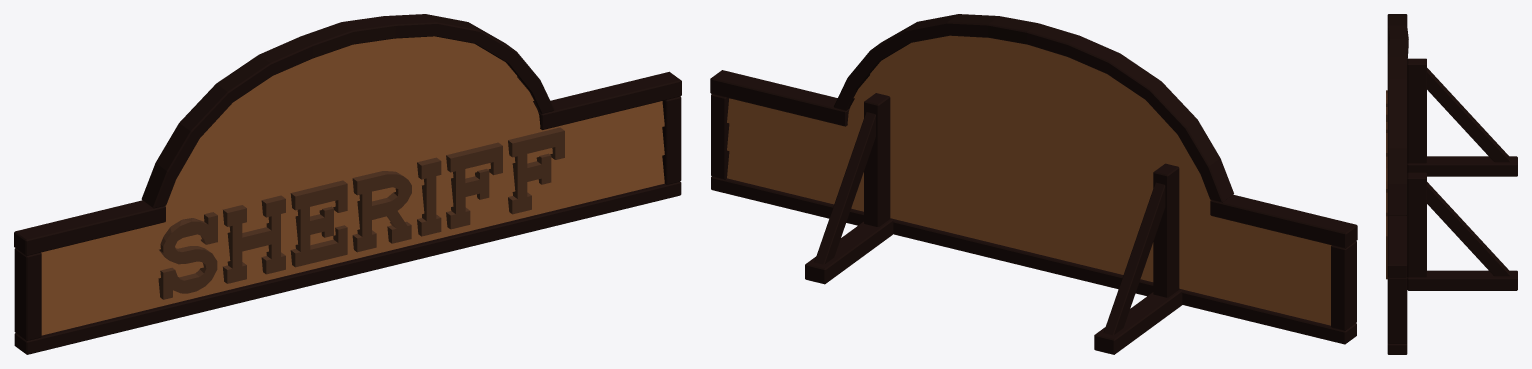
The model's file is ww_sheriff_sign_b.glb.
3 renders of one model, left to right at view 1: azimuth 30°, elevation 25°; view 2: azimuth 150°, elevation 25°; view 3: azimuth 270°, elevation 25°, orthographic. The views are drawn at different scales.
Parts seen in each view (by area): view 1: Sheriff_Sign_B; view 2: Sheriff_Sign_B; view 3: Sheriff_Sign_B.
Boxes of the visible parts, bbox=[...] form: Sheriff_Sign_B: bbox=[14, 14, 681, 354]; Sheriff_Sign_B: bbox=[710, 14, 1357, 354]; Sheriff_Sign_B: bbox=[1386, 14, 1517, 354].
Bounding box in the file's own units: 10.56 × 3.75 × 2.34.
